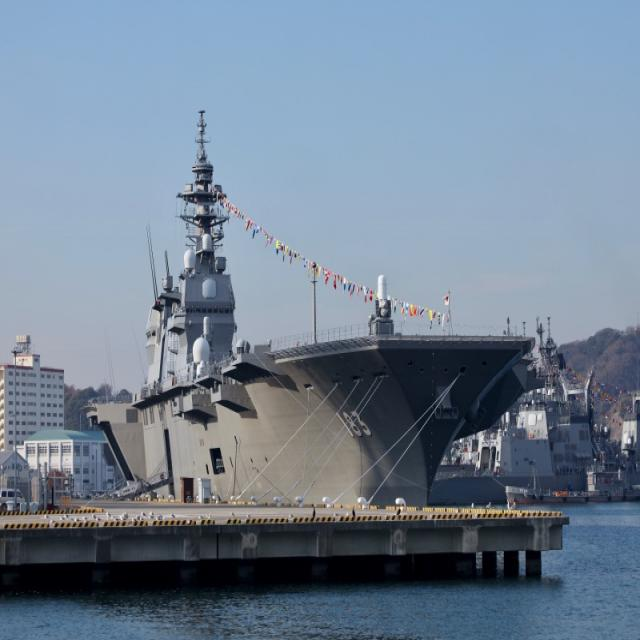Portanaves: (88, 107, 548, 525)
